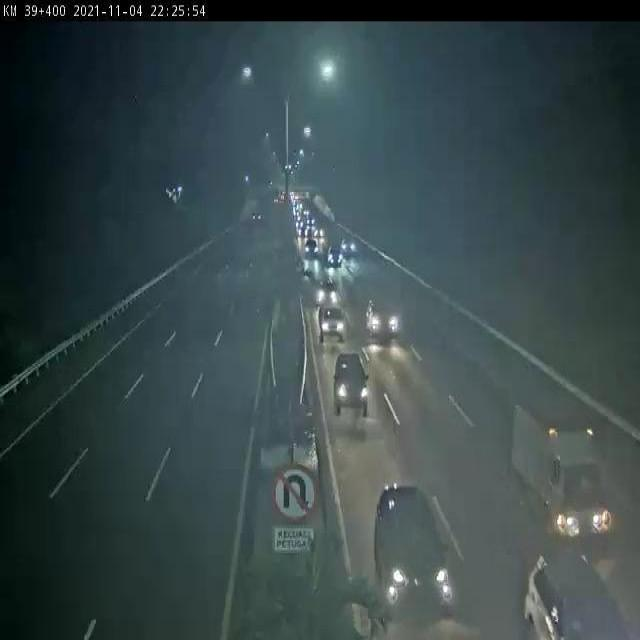car: (376, 482, 456, 618), (525, 538, 626, 640), (329, 348, 376, 412), (370, 297, 399, 340), (318, 307, 346, 348), (328, 243, 345, 269), (303, 235, 319, 257), (343, 237, 355, 256)
truck-s-: (506, 387, 624, 536)
